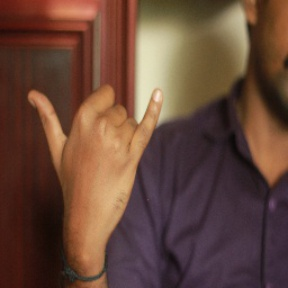J: (29, 65, 163, 217)
